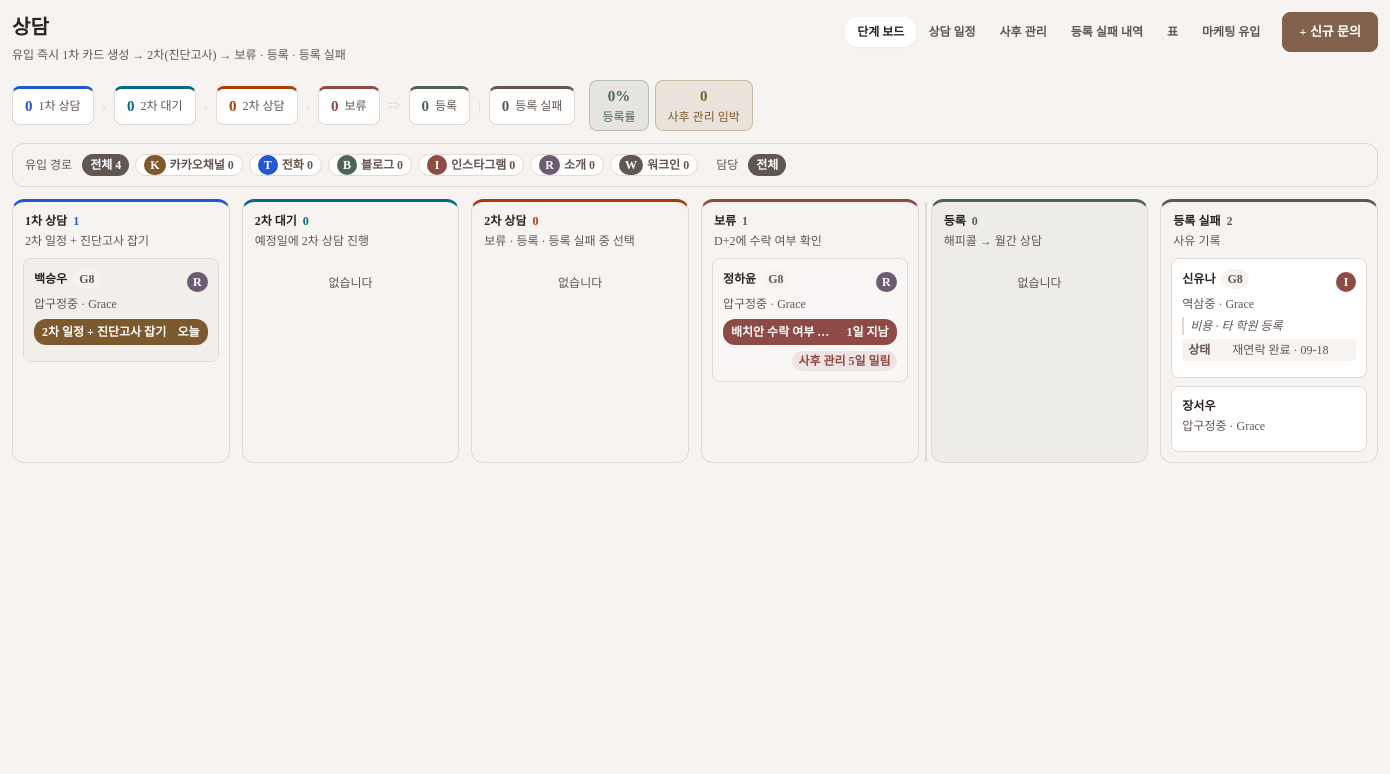
it: §24 등록 실패 내역 (24-04 · 24-05 · 24-06 · 24-07 · 24-08) › 실패 카드는 실패한 날 · 그 전 단계 · 재연락 칩과 날짜 · 사유 분류를 서버 값 그대로 적고, 옛 건은 날짜를 짓지 않는다
Check: the text "백승우" is shown, box [34,270,67,288]
Click the button "등록 실패 내역": (1107,32) [1059,17,1155,47]
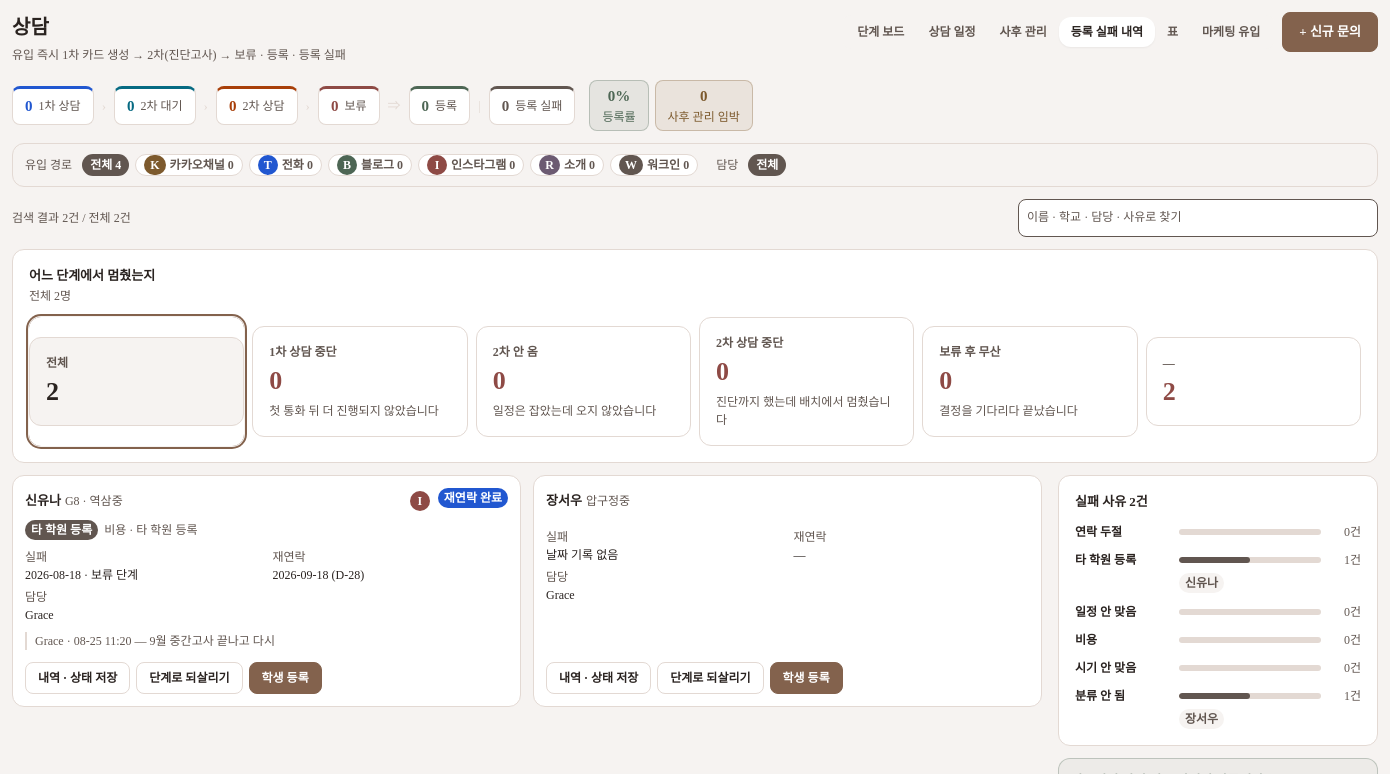
Check: the picture named "유입 경로 인스타그램" is shown, box [410,488,430,512]
Check: the text "타 학원 등록" next to "비용 · 타 학원 등록" is shown, box [31,522,92,536]
